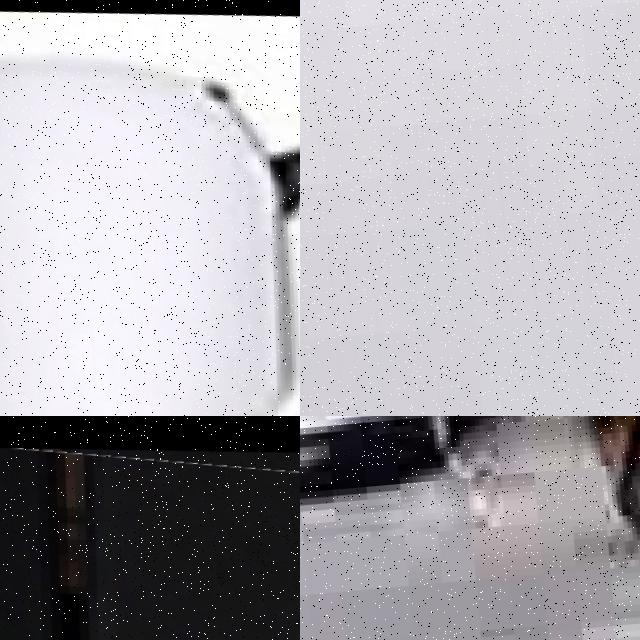drone: (0, 0, 300, 416), (0, 416, 300, 640)
